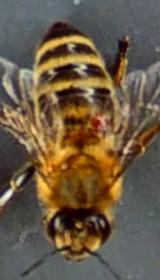varroa_mite: (74, 110, 110, 144)
